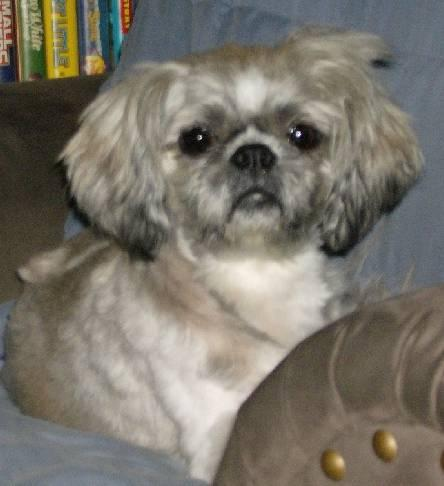dog: (3, 33, 420, 480)
